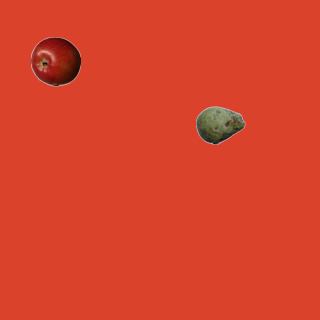Apple Braeburn: (30, 36, 80, 86)
Pear Stone: (195, 100, 245, 150)
